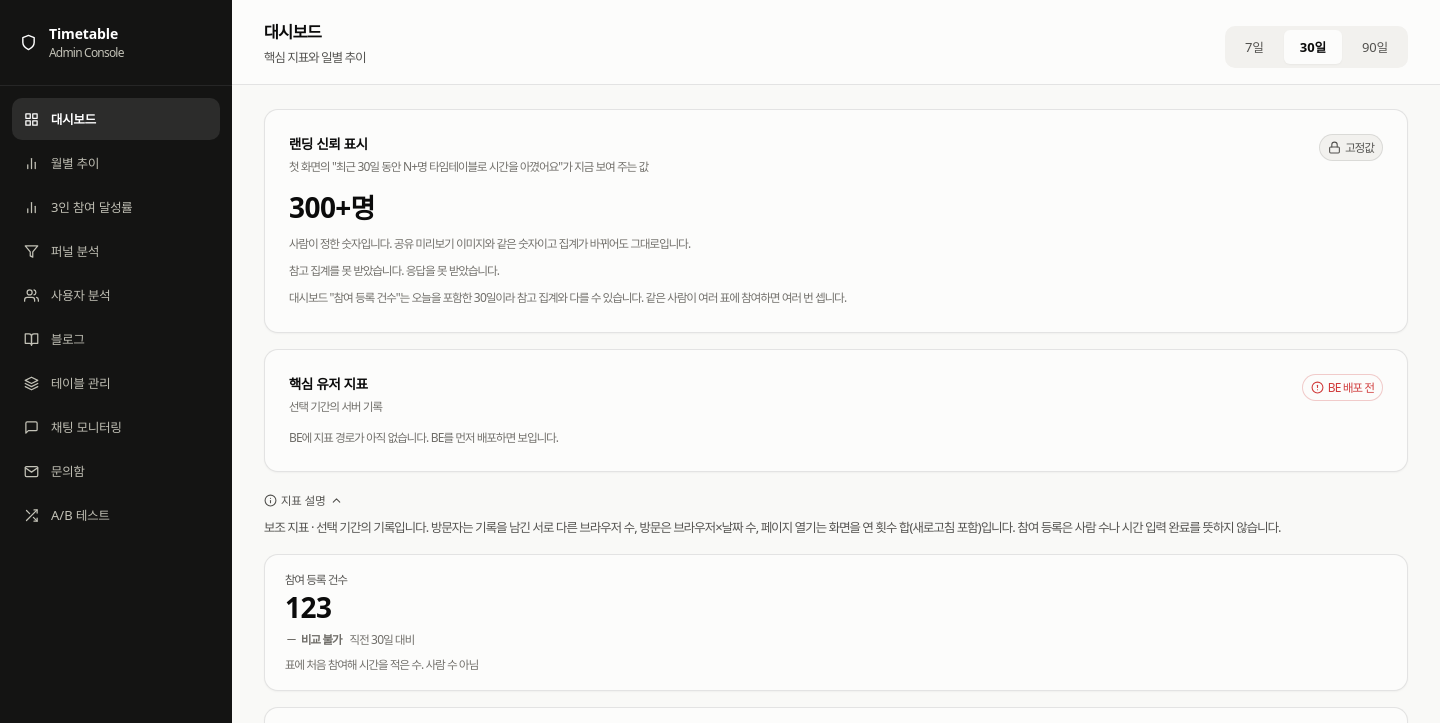
Test: KPI 조회 실패를 표시하고 재시도로 회복한다
The image size is (1440, 723).
Expected: the text "123" is shown, top-left (285, 588), bottom-right (331, 626)
Click the button "3인 참여 달성률" at {"x": 116, "y": 207}, box top-left (12, 186), bottom-right (220, 228)
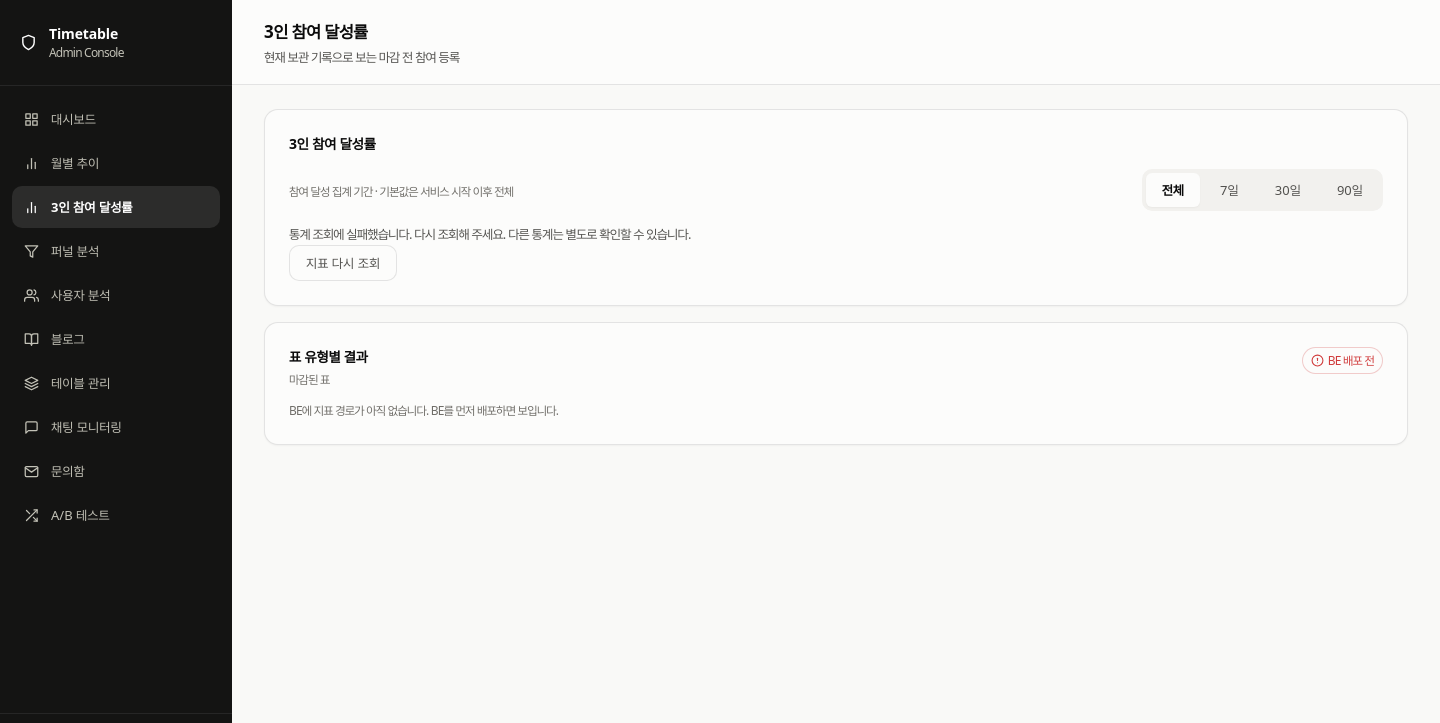
Result: the text "통계 조회에 실패했습니다. 다시 조회해 주세요. 다른 통계는 별도로 확인할 수 있습니다." is shown at top-left (289, 225), bottom-right (691, 243)
Click the button "지표 다시 조회" at {"x": 343, "y": 263}, box top-left (289, 245), bottom-right (397, 281)
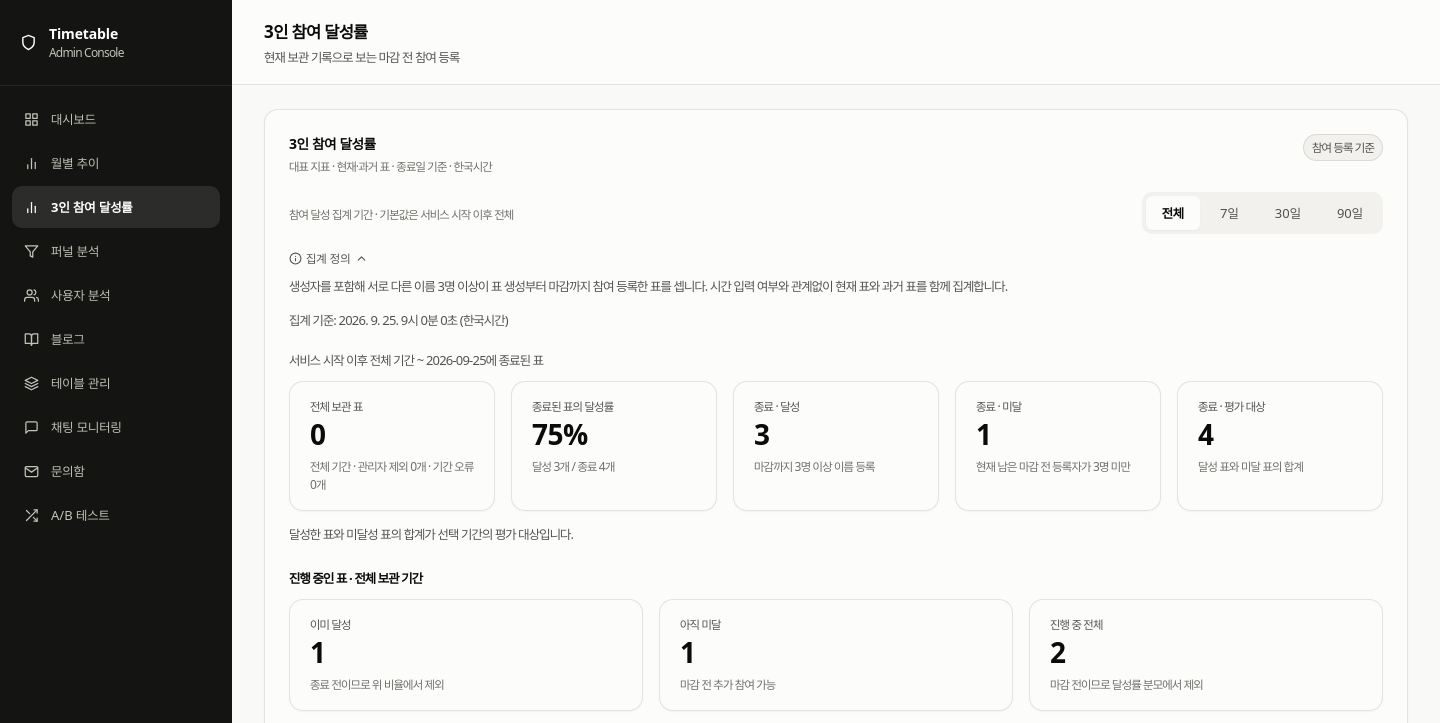
Result: the text "75%" is shown at top-left (532, 415), bottom-right (588, 453)
